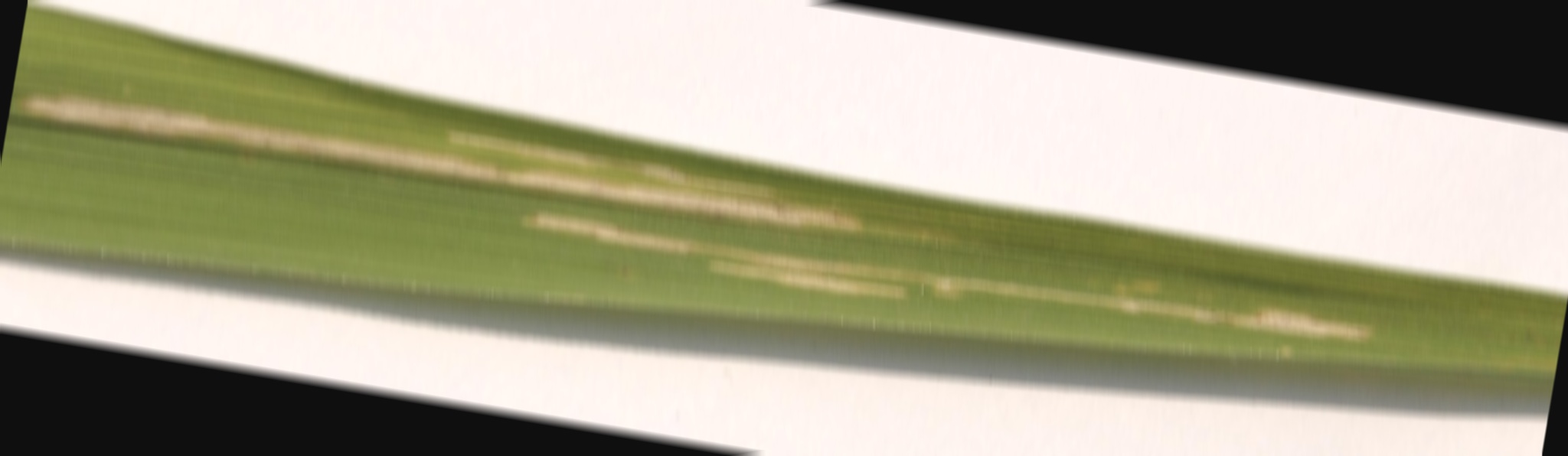Leaf_Blast: (22, 156, 1440, 296)
